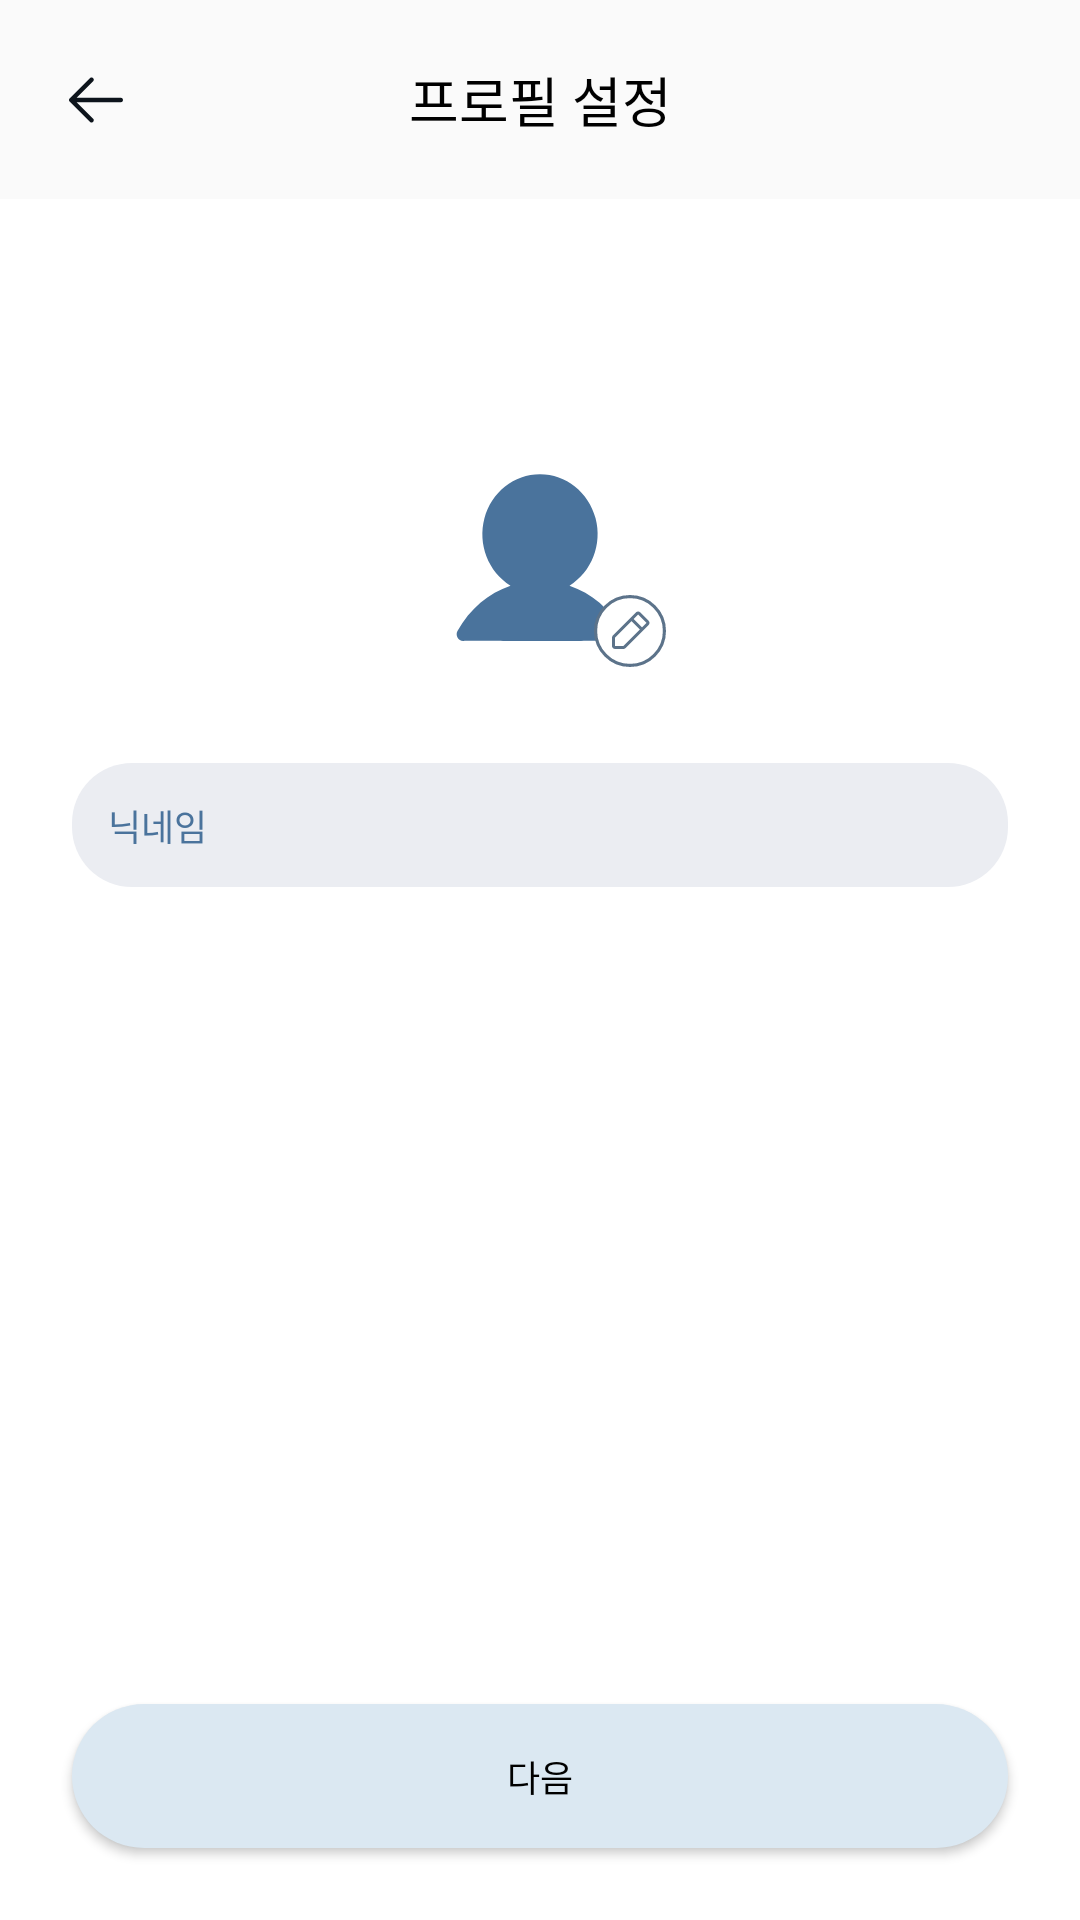

Icons on this 1080w x 1920h Android screen, each with the point to tap as point (x, y):
back: point (96, 100)
